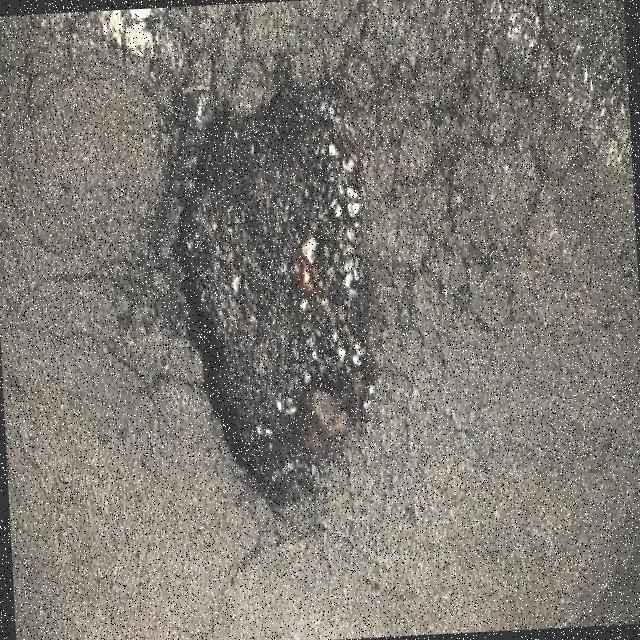Pothole: (153, 78, 381, 512)
